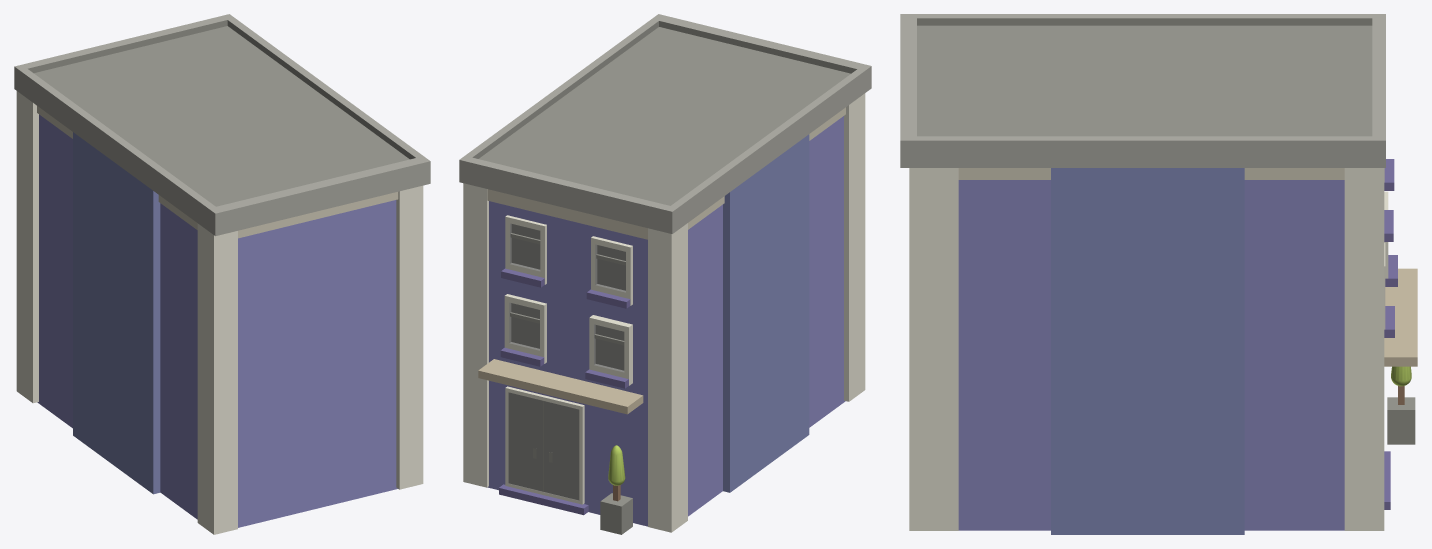
Rendered from house3.fbx.
3 views of the same model, side by side, from view 1: azimuth 30°, elevation 25°; view 2: azimuth 150°, elevation 25°; view 3: azimuth 270°, elevation 25° (orthographic). The views are drawn at different scales.
Parts seen in each view (by area): view 1: dom1; view 2: dom1; view 3: dom1.
Part boxes in pixels (x1,y1,x2,y2): dom1: (14, 14, 430, 534); dom1: (459, 14, 871, 534); dom1: (900, 14, 1417, 534).
Size of the model in its own units: 710 by 1031 by 1225.
